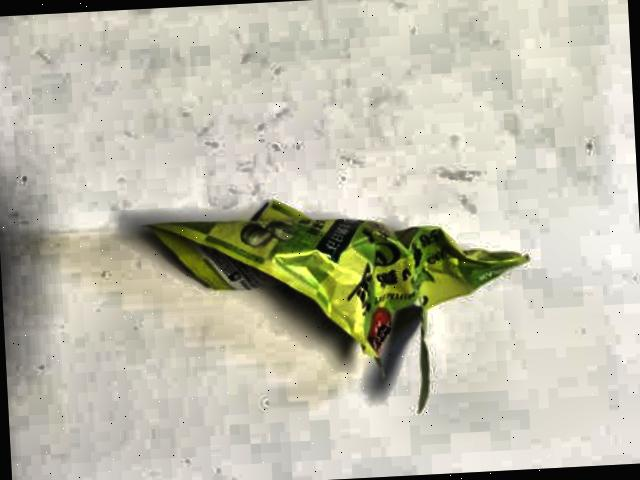Plastic: (115, 170, 558, 434)
